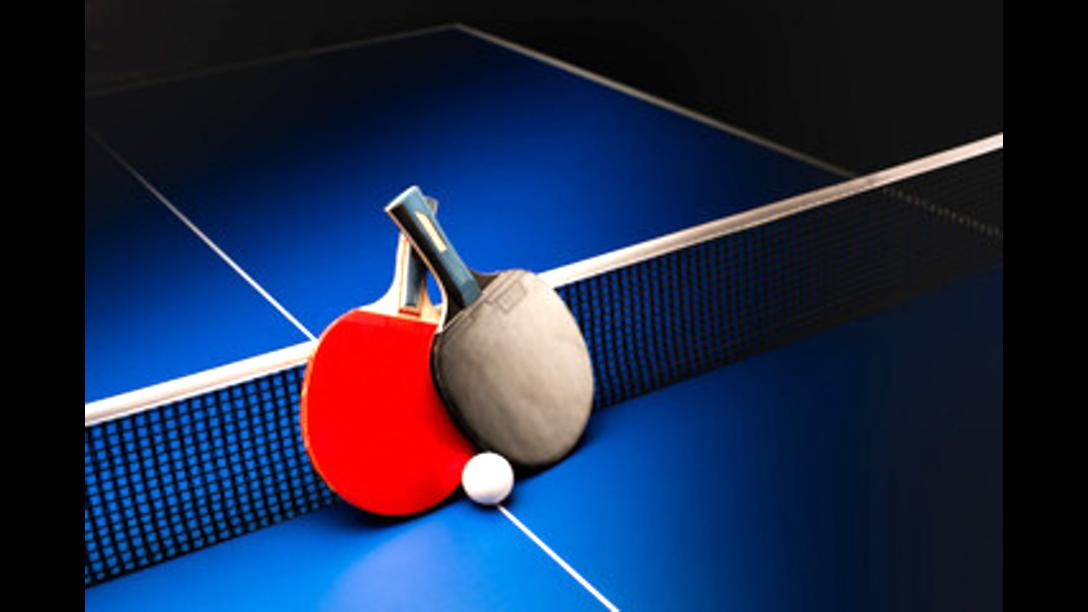Table-Tennis-Ball: (464, 453, 512, 501)
